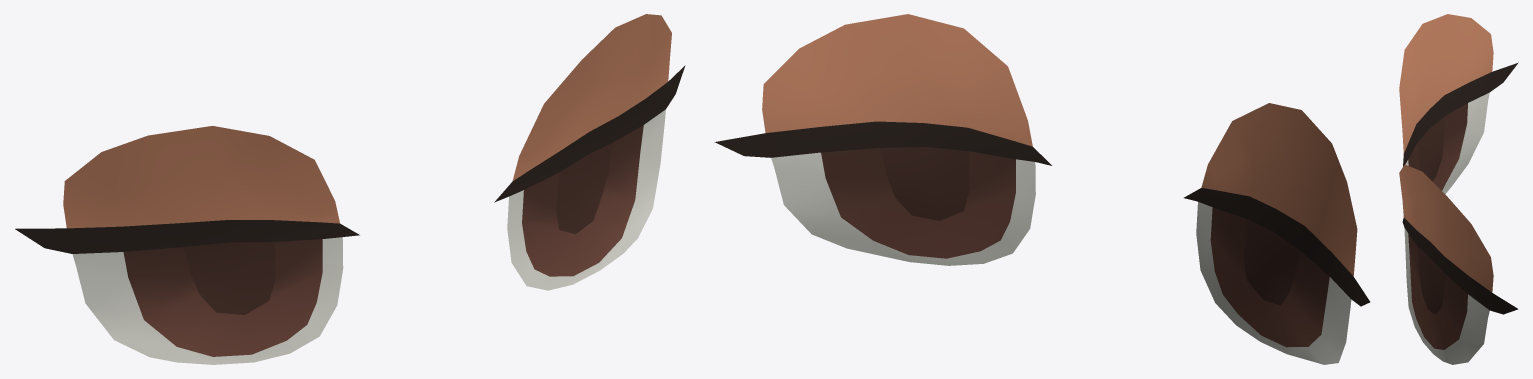
File: Eye_Brown_3.fbx
3 views of the same model, side by side, from view 1: azimuth 30°, elevation 25°; view 2: azimuth 150°, elevation 25°; view 3: azimuth 270°, elevation 25° (orthographic). The views are drawn at different scales.
Visible parts, largest first — view 1: Eye_Brown_3; view 2: Eye_Brown_3; view 3: Eye_Brown_3.
Part boxes in pixels (box(x1,y1,x2,y2)): Eye_Brown_3: box(15, 14, 685, 364); Eye_Brown_3: box(714, 14, 1370, 364); Eye_Brown_3: box(1399, 14, 1518, 364).
Bounding box in the file's own units: 41.23 × 14.51 × 8.45.
